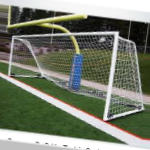goals: (8, 32, 145, 121)
